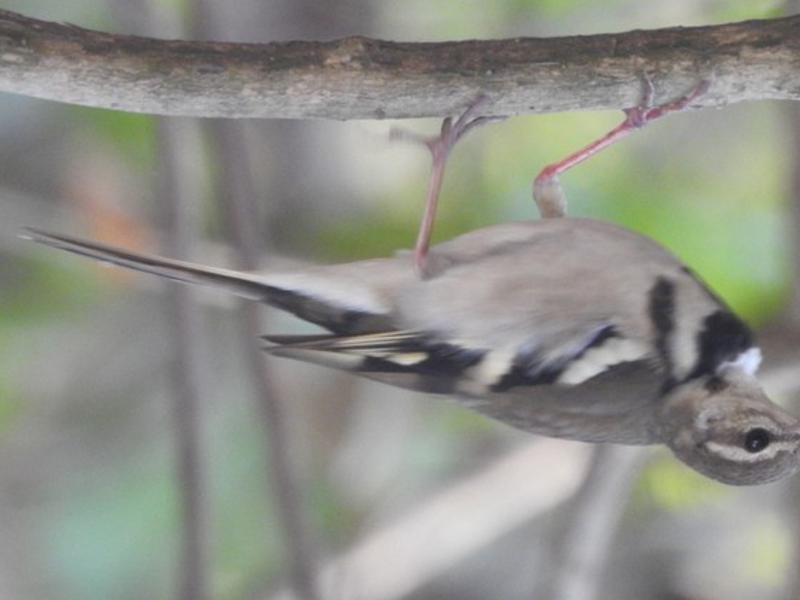wagtail: (164, 110, 799, 474)
